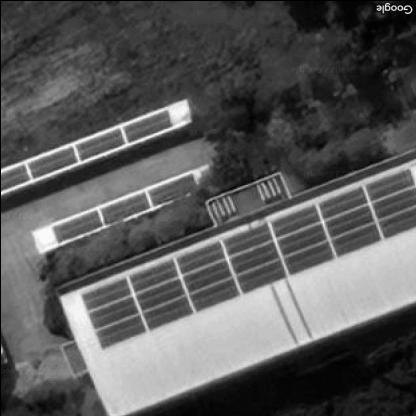solar-pv-panel: (81, 169, 416, 348), (0, 108, 170, 191), (51, 173, 197, 242)
